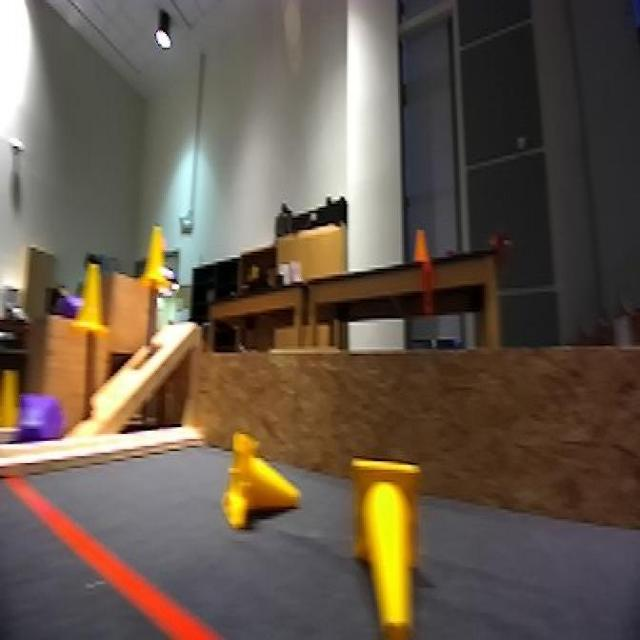frc_cone: (351, 461, 417, 640), (220, 431, 290, 536), (74, 259, 107, 342), (143, 226, 176, 306), (1, 368, 28, 426)
frc_cube: (14, 395, 59, 449), (55, 286, 76, 318)
